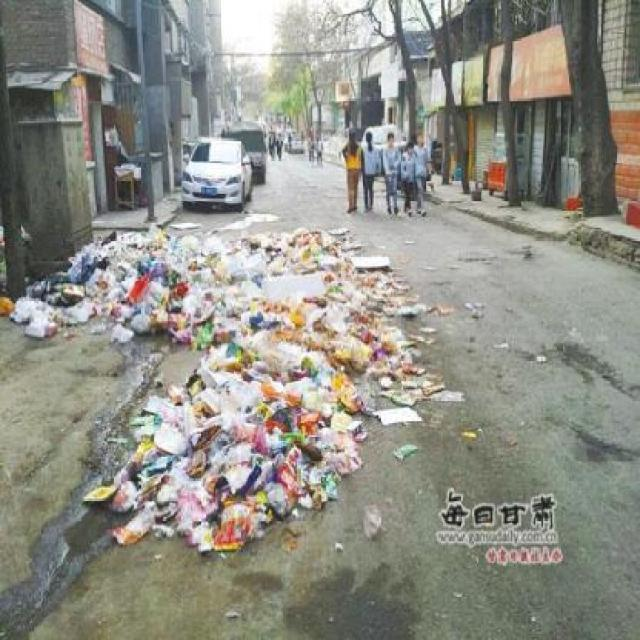garbage: (94, 214, 421, 567), (8, 262, 142, 349)
